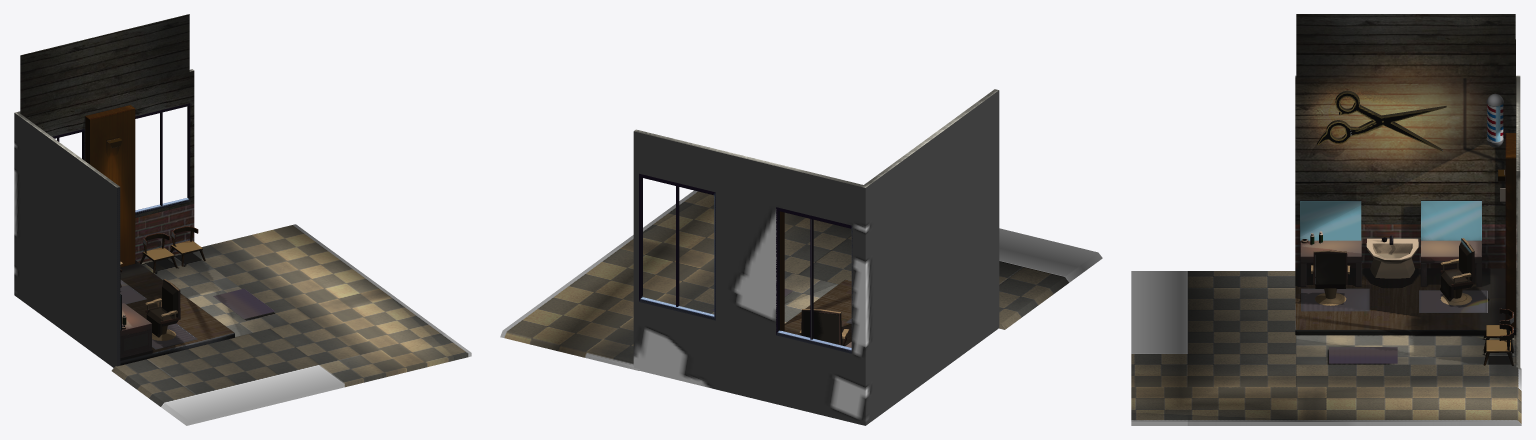
Rendered from Tx_Interior_Work_Barbershop_20170714.fbx.
3 views of the same model, side by side, from view 1: azimuth 30°, elevation 25°; view 2: azimuth 150°, elevation 25°; view 3: azimuth 270°, elevation 25° (orthographic). The views are drawn at different scales.
Parts seen in each view (by area): view 1: barbershop, Expand; view 2: barbershop, Expand; view 3: barbershop, Expand.
Boxes of the visible parts, x1,y1,x2,y2 form: barbershop: (14, 69, 288, 367); Expand: (20, 14, 471, 425); barbershop: (633, 89, 999, 425); Expand: (500, 190, 1102, 370); barbershop: (1295, 75, 1520, 369); Expand: (1131, 14, 1521, 425).
Bounding box in the file's own units: 36.4 × 29.37 × 39.32.
Materials: 6 (6 with a texture image).
